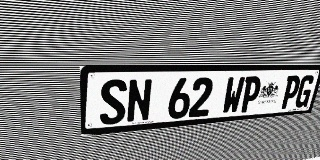2: (189, 77, 214, 117)
6: (167, 78, 193, 119)
G: (293, 75, 316, 108)
N: (126, 79, 153, 123)
P: (239, 76, 263, 113), (279, 75, 302, 109)
S: (100, 79, 127, 125)
W: (221, 77, 246, 115)
